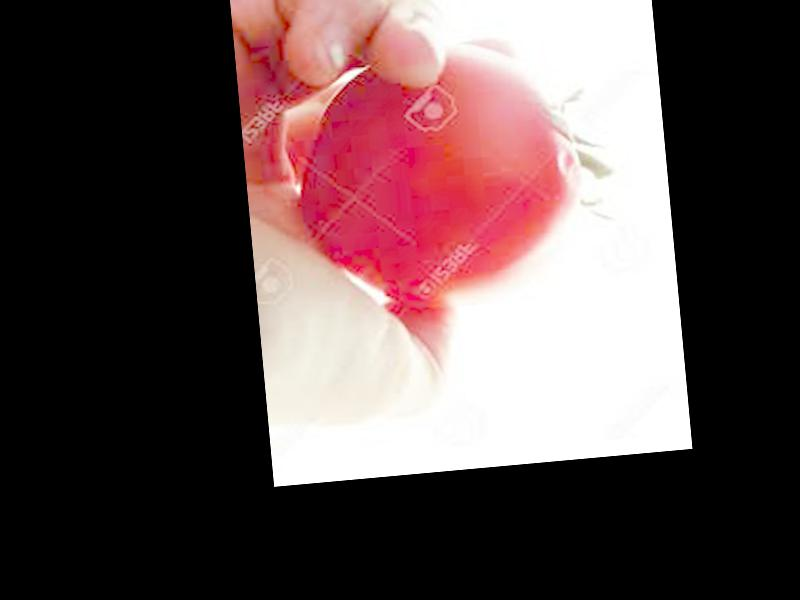Tomato: (292, 32, 594, 315)
